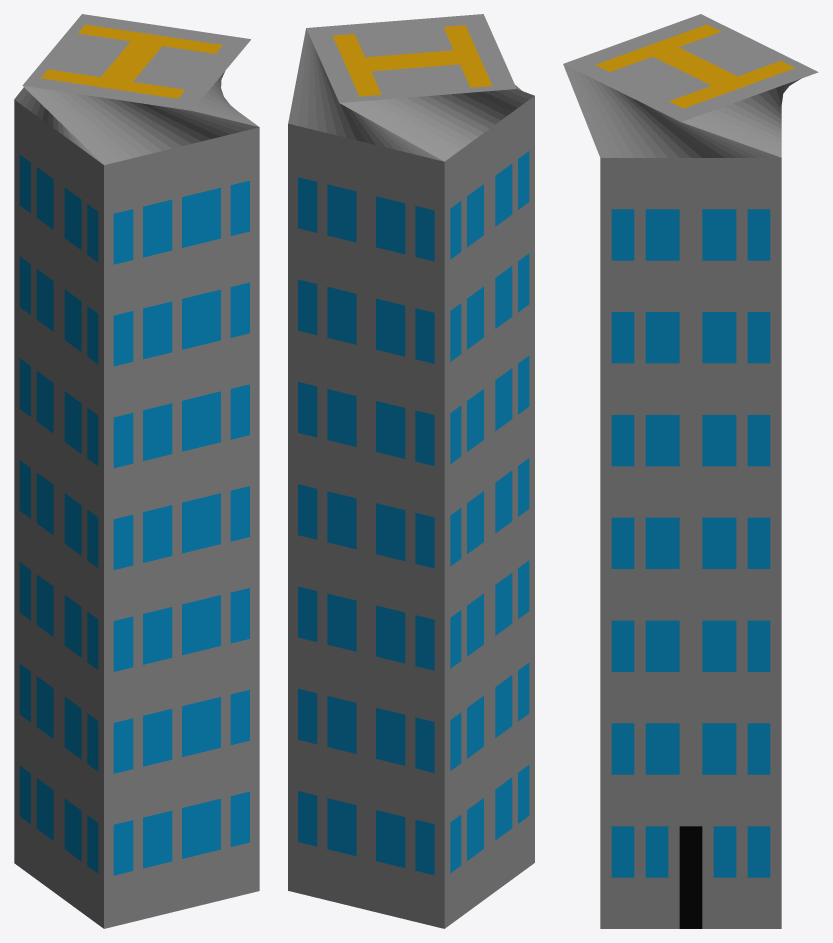
File: housre3.fbx
3 views of the same model, side by side, from view 1: azimuth 30°, elevation 25°; view 2: azimuth 150°, elevation 25°; view 3: azimuth 270°, elevation 25° (orthographic).
Parts seen in each view (by area): view 1: Cube; view 2: Cube; view 3: Cube.
Part boxes in pixels (box(x1,y1,x2,y2)): Cube: box(14, 14, 259, 928); Cube: box(288, 14, 534, 928); Cube: box(563, 14, 818, 928).
Size of the model in its own units: 1128 by 4000 by 1128.
